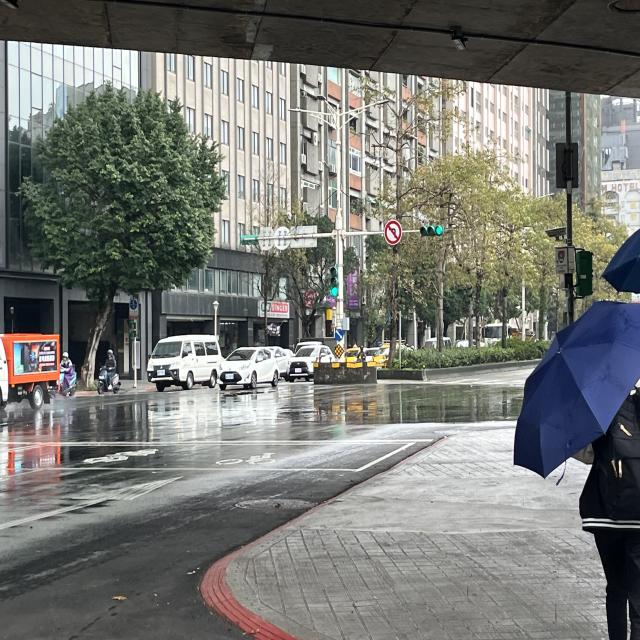green light: (328, 264, 341, 300), (419, 223, 444, 239)
